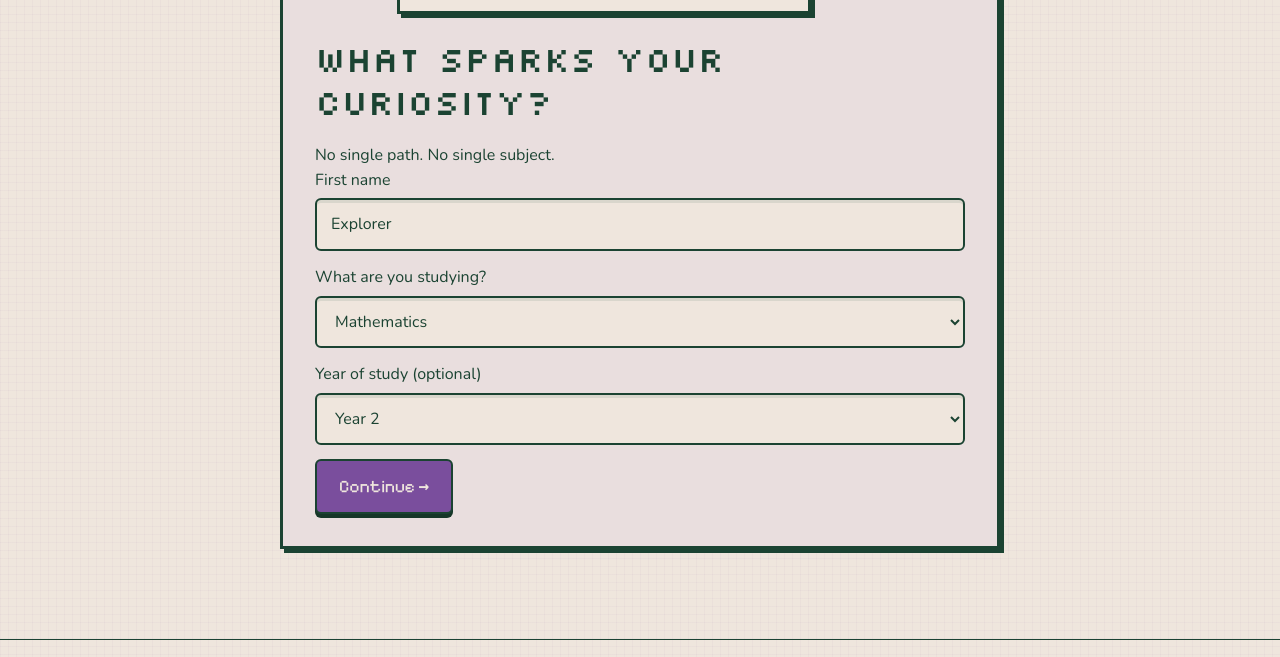
Test: a Psychology major sees Mindscape Gardens courses first and may skip the year
(page scrolled)
Select "Psychology" in the dropdown labelled "What are you studying?". click: (640, 322)
box: [315,296,965,348]
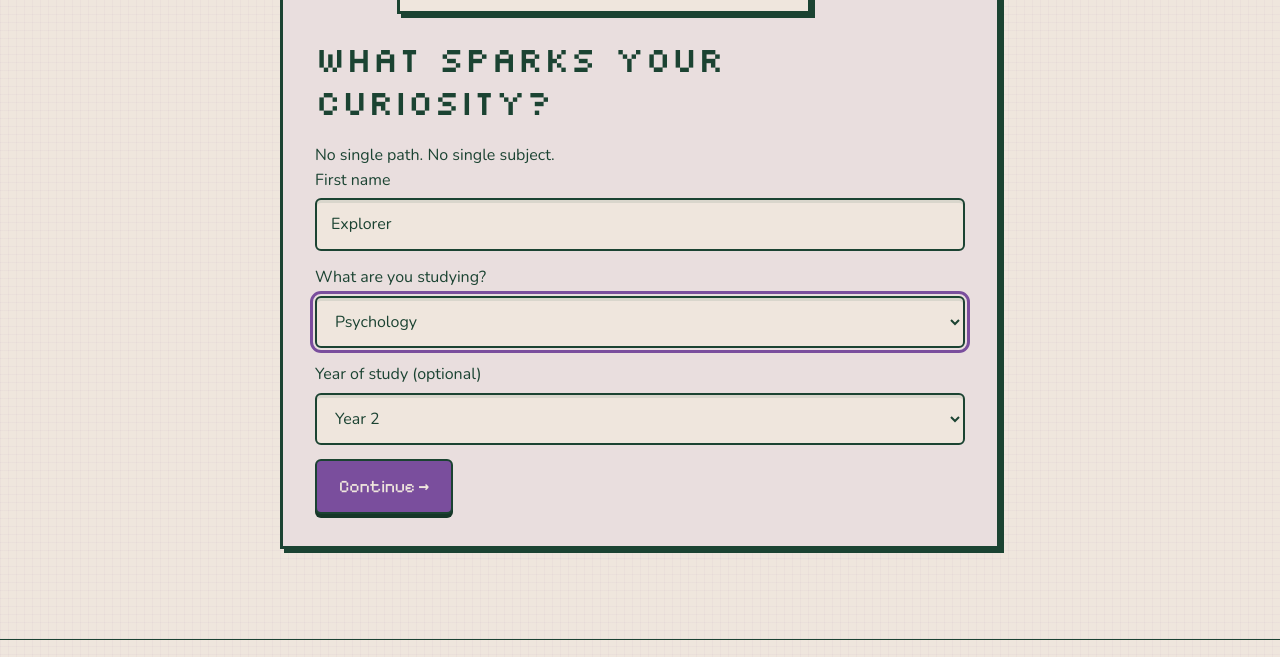
Select "Prefer not to say" in the dropdown labelled "Year of study (optional)". click: (640, 419)
box: [315,393,965,445]
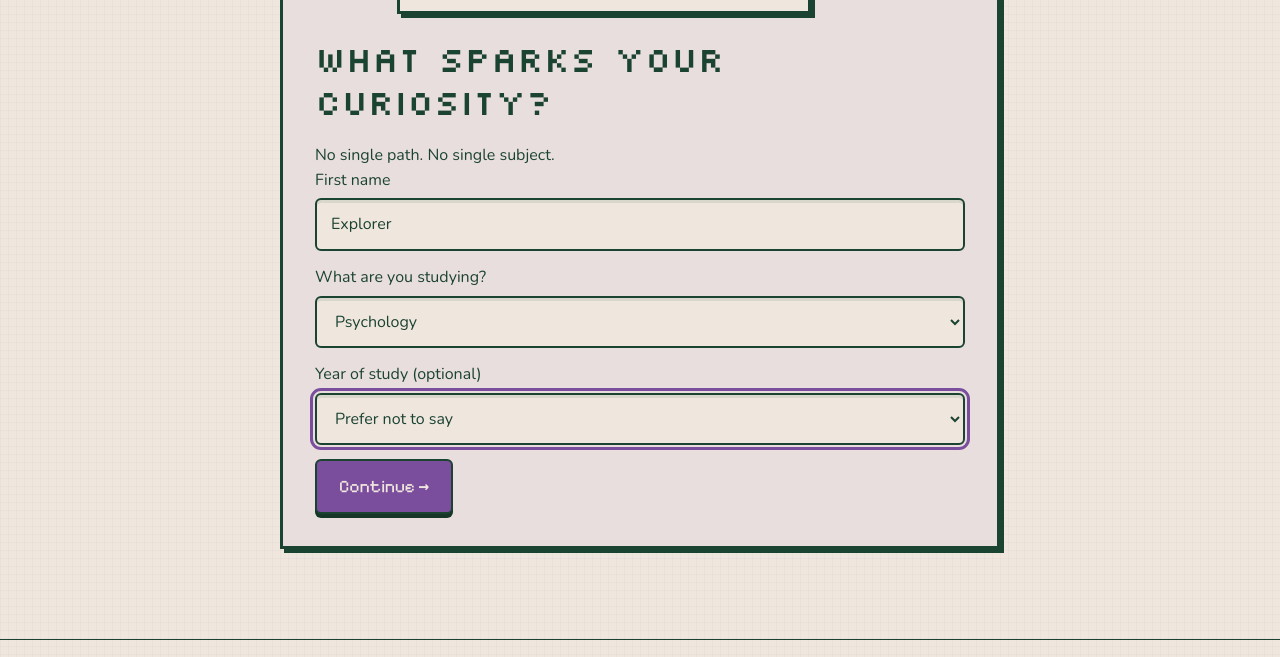
Click the button "Continue →". click: click(384, 486)
box: [315,459,453,514]
(page scrolled)
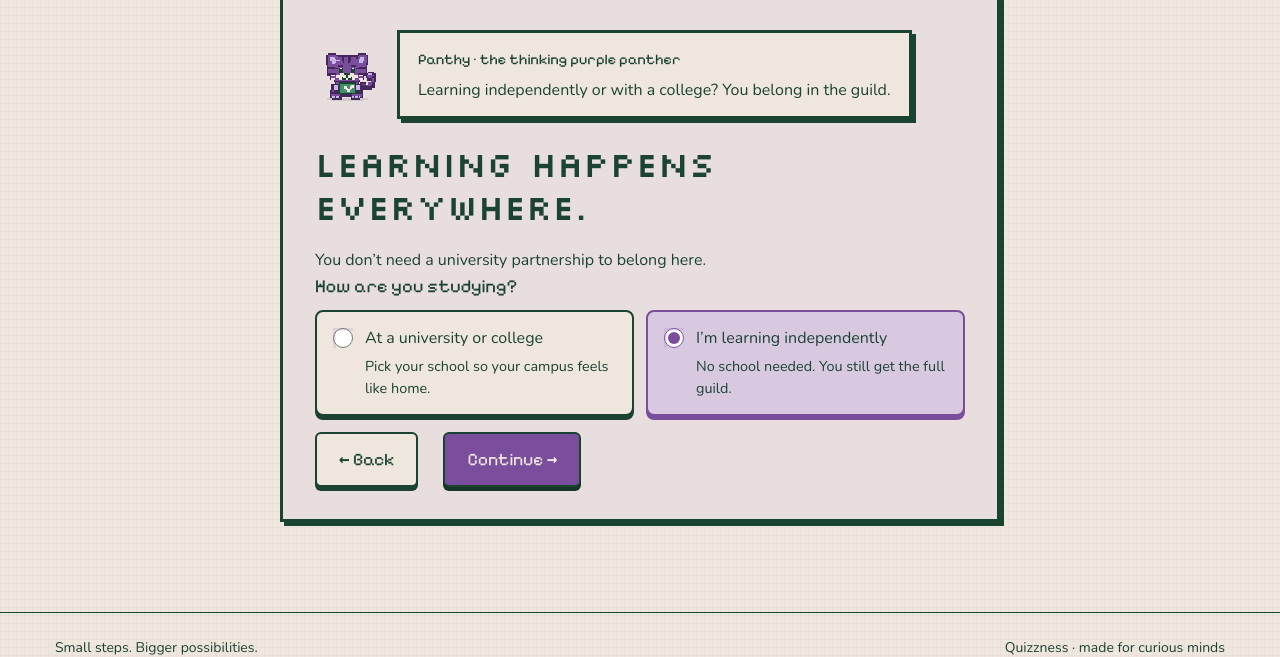
Now the heading "Learning happens everywhere." is shown, box [315,141,715,229]
Click the button "Continue →". click: click(512, 459)
box: [443,432,581,487]
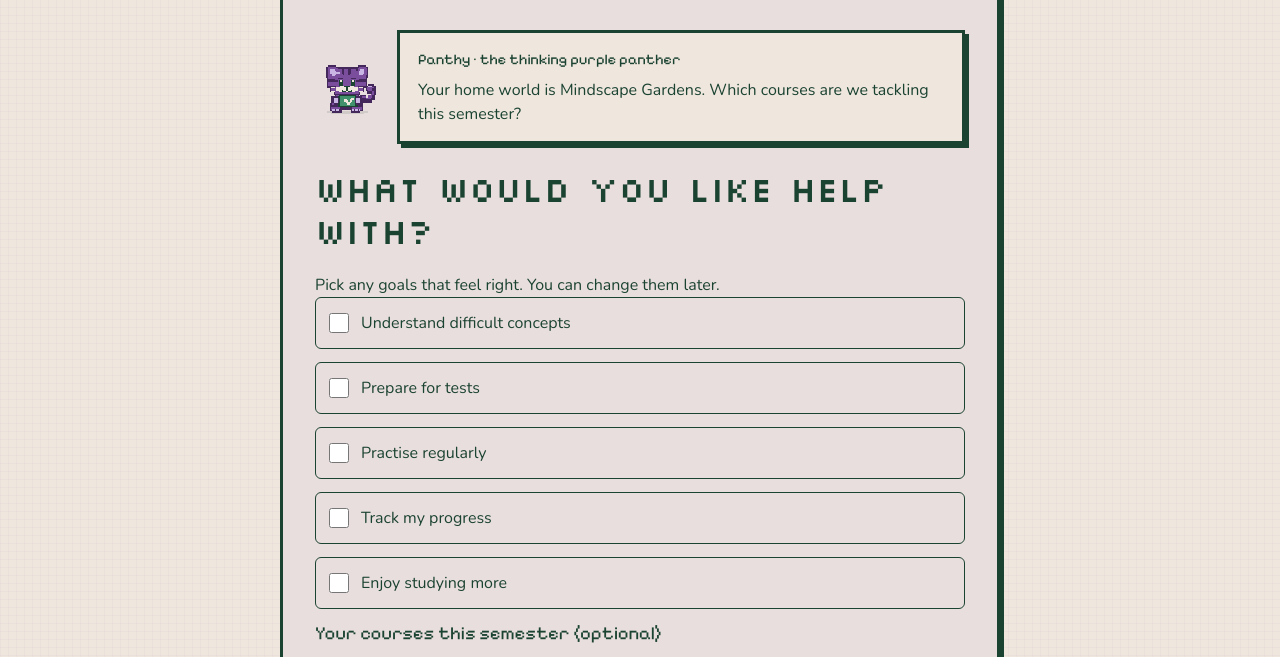
Now the text "Your home world is Mindscape Gardens" is shown, box [418,79,929,125]
